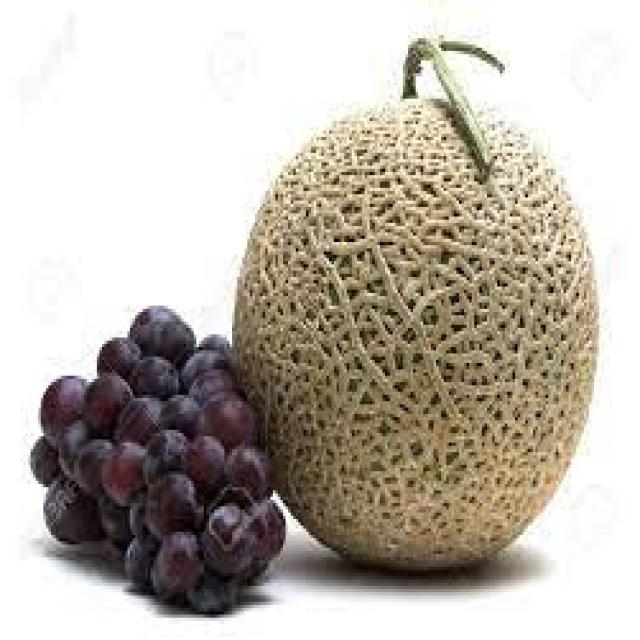grape: (28, 302, 288, 618)
melon: (235, 82, 604, 582)
